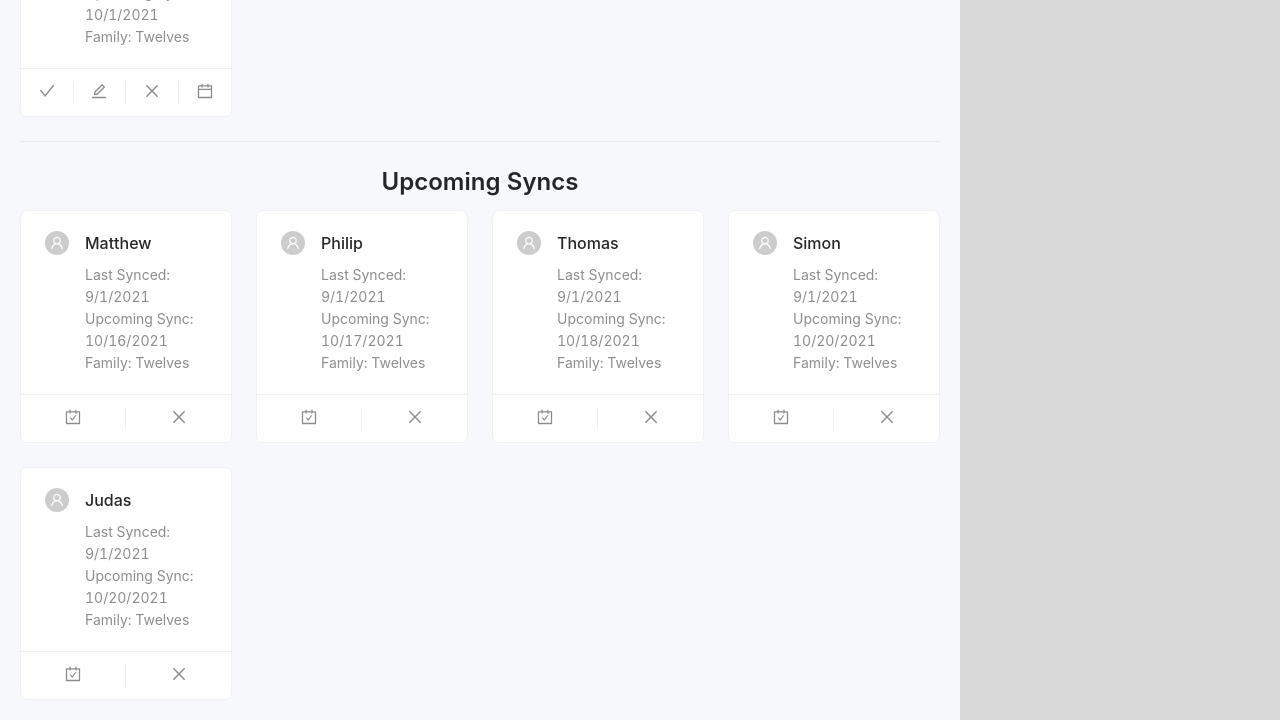
remove upcoming sync when clicking decline btn
The width and height of the screenshot is (1280, 720).
(page scrolled)
Expected: the text "Judas" is shown, [85,490,131,510]
Click the picture named "close" below "Judas": (178, 674) [170,666,186,682]
(page scrolled)
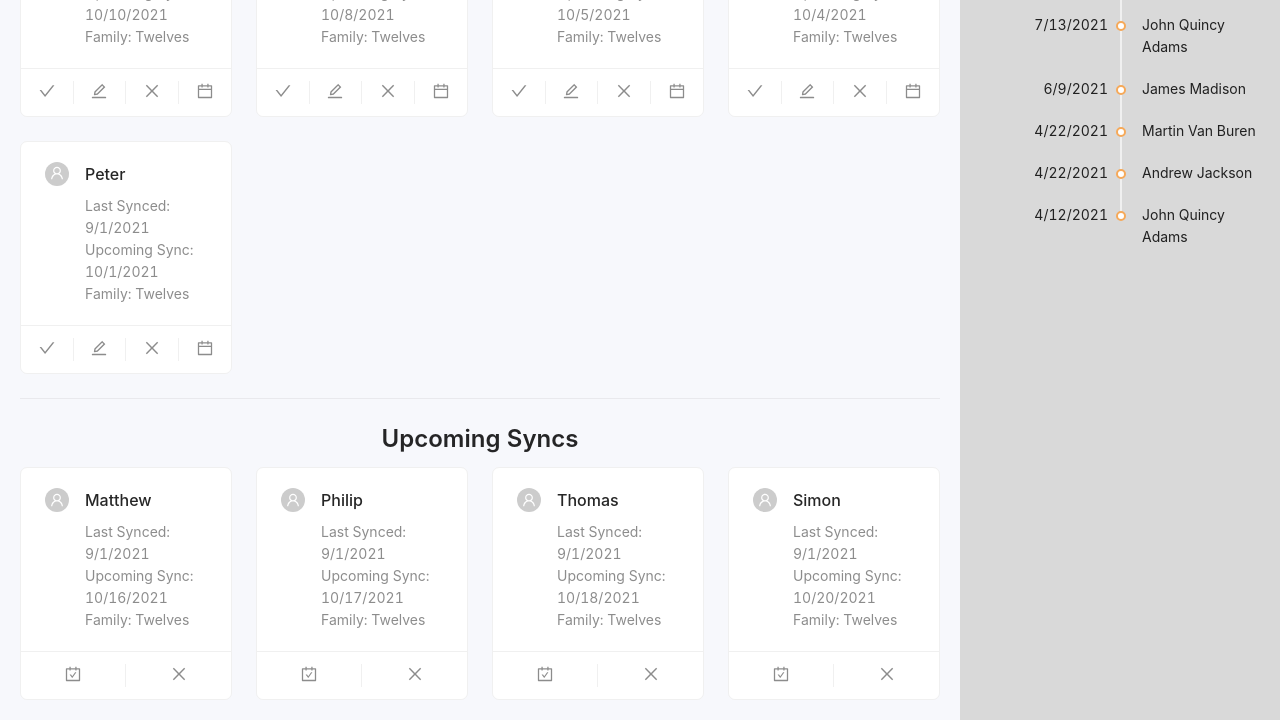
Expected: the text "Judas" is gone
